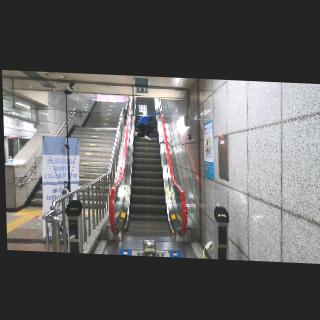anomaly: (132, 109, 167, 144)
